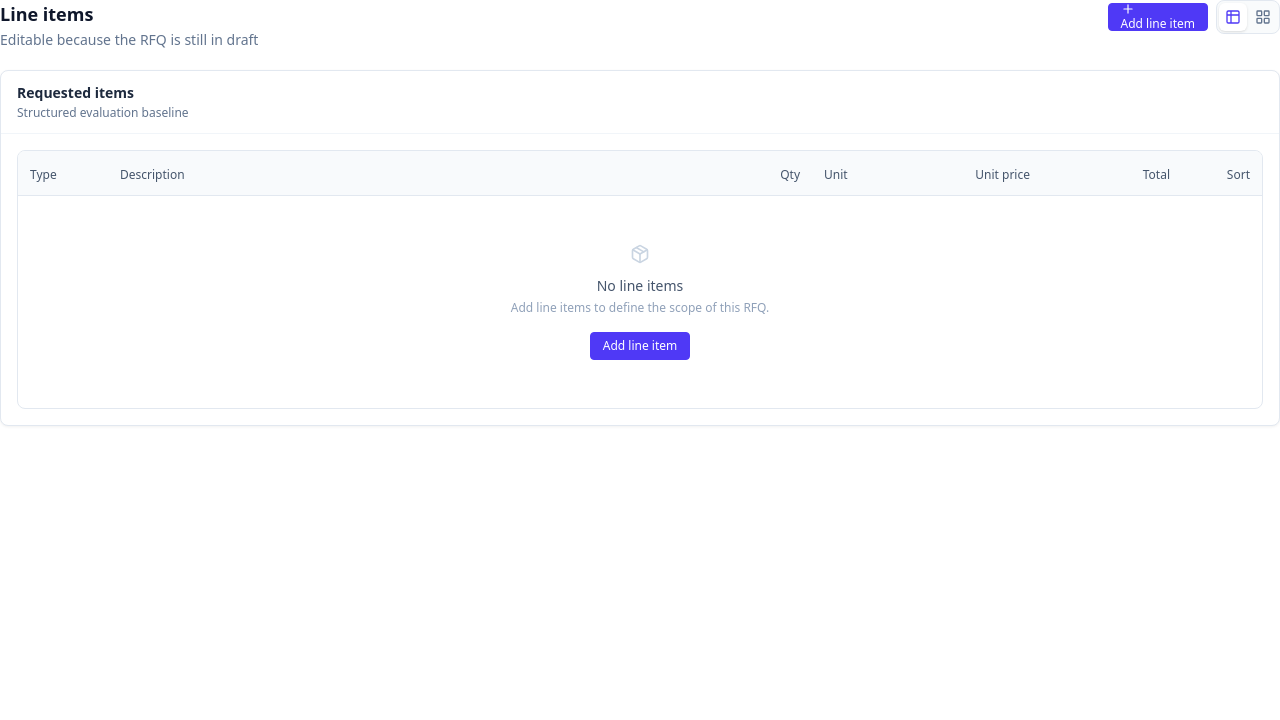
Scenario: RfqLineItemsPage › shows add line item in empty state for draft RFQs and opens the drawer
The image size is (1280, 720).
Click the button "Add line item" below "No line items" at (640, 346), box [590,332,690,360]
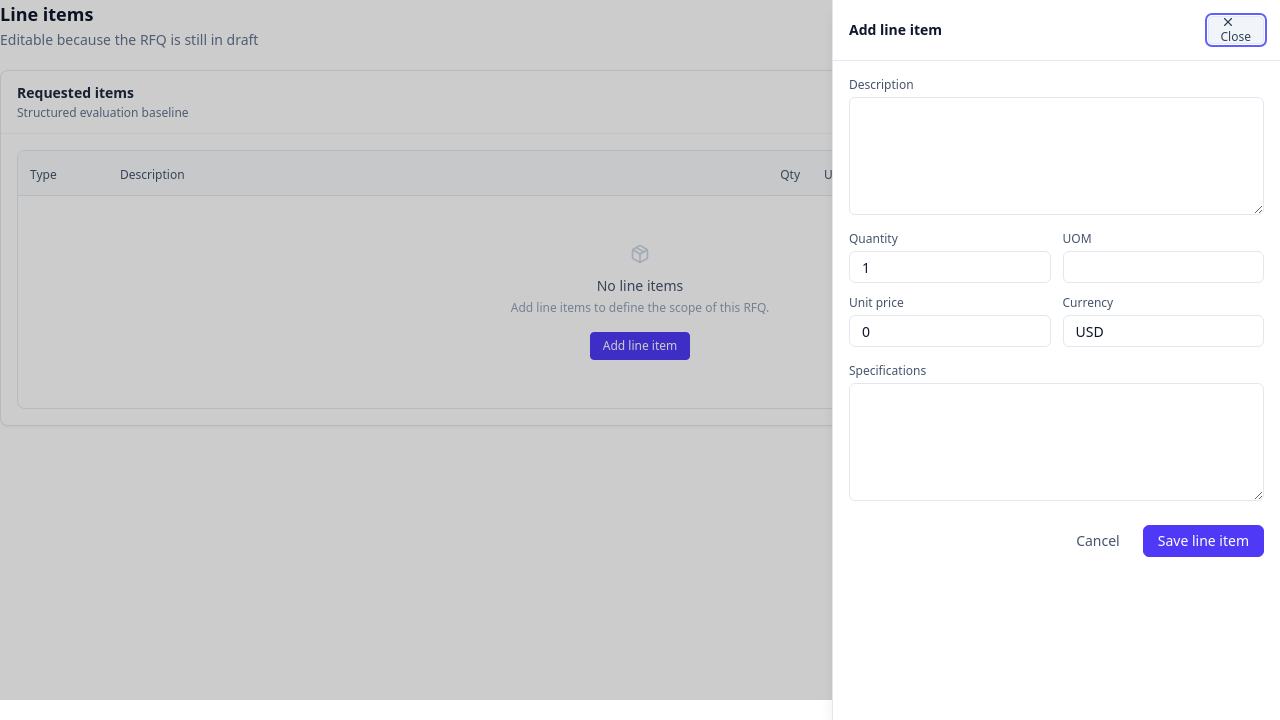
Now the heading "Add line item" is shown, box [849,20,942,40]
